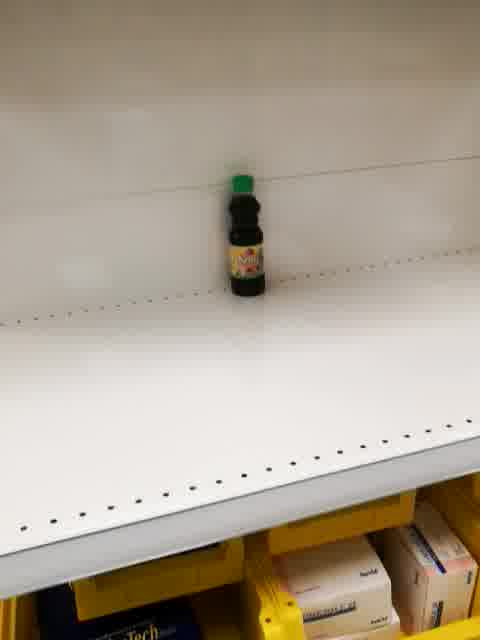cookingoil: (226, 172, 268, 300)
